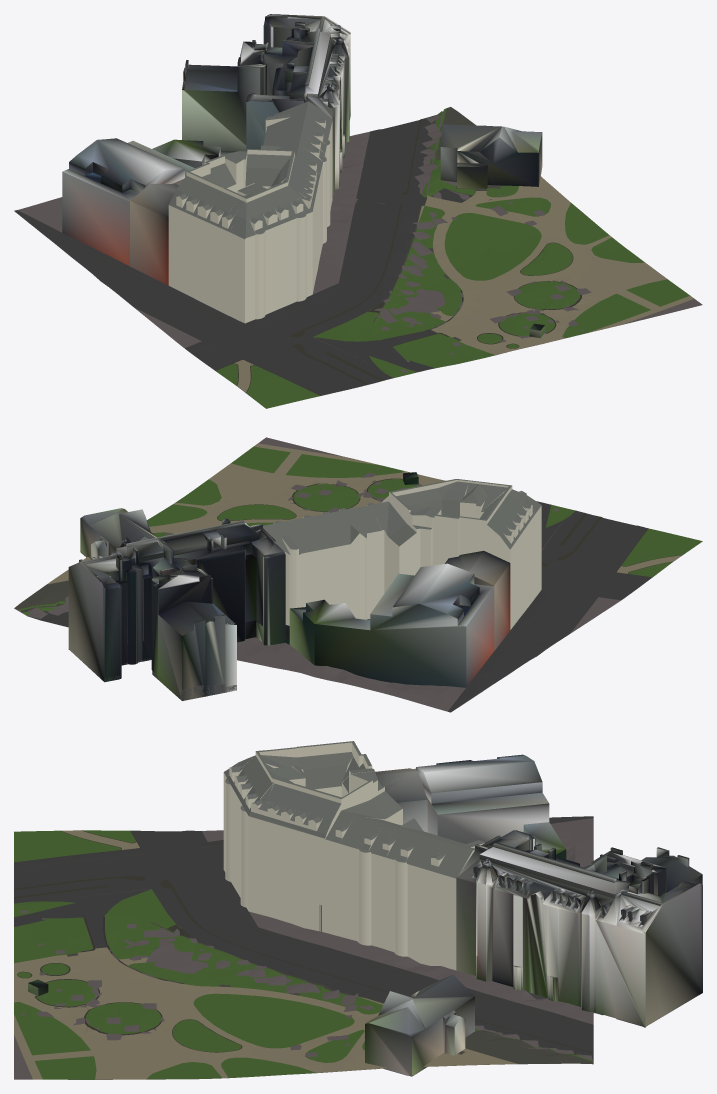
3 renders of one model, top to bottom at view 1: azimuth 30°, elevation 25°; view 2: azimuth 150°, elevation 25°; view 3: azimuth 270°, elevation 25°, orthographic. The views are drawn at different scales.
Parts seen in each view (by area): view 1: c_m01_p11; view 2: c_m01_p11; view 3: c_m01_p11.
Boxes of the visible parts, x1,y1,x2,y2 form: c_m01_p11: (14,14,702,408); c_m01_p11: (14,437,702,712); c_m01_p11: (14,741,702,1079).
Bounding box in the file's own units: 132 × 32.52 × 152.
